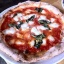basil: (31, 33, 47, 48), (38, 19, 52, 30), (7, 23, 24, 30), (25, 14, 36, 23), (36, 7, 45, 13)
pizza: (1, 2, 62, 60)
